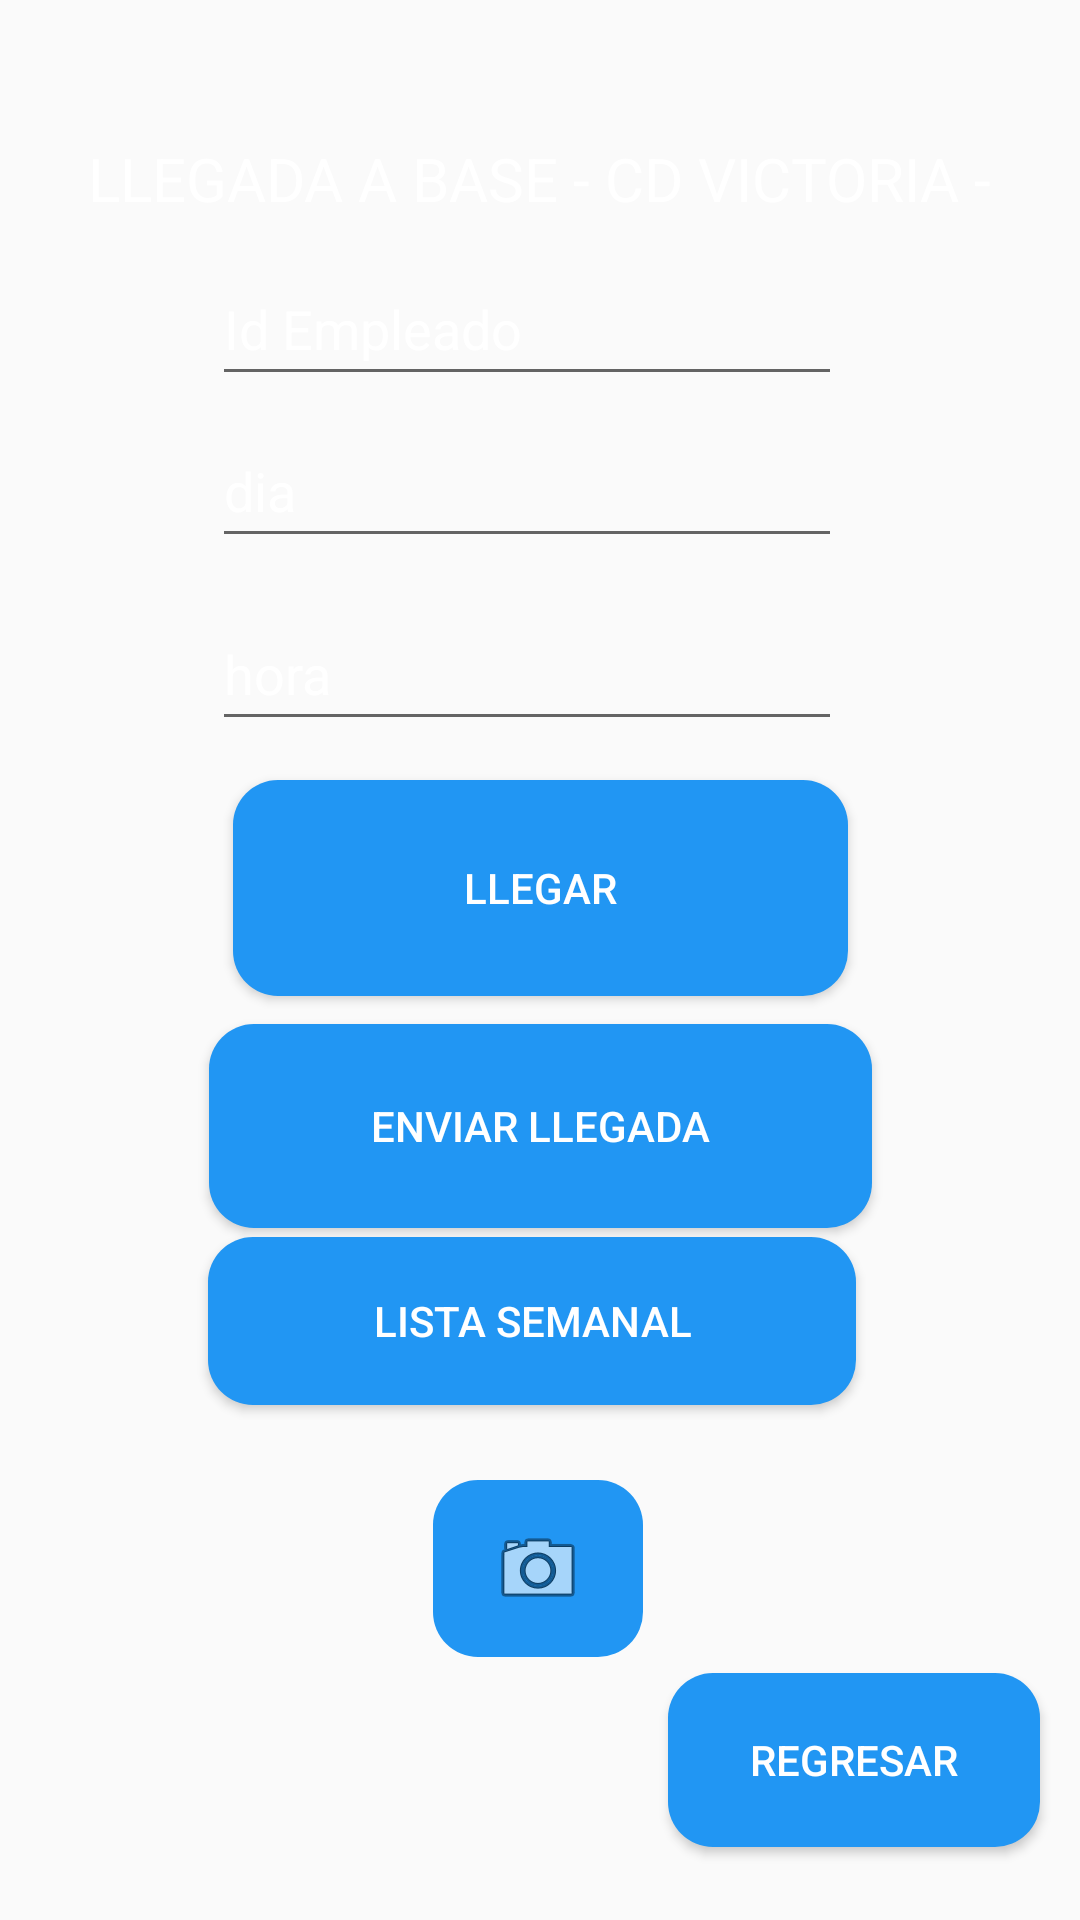

Icons on this 1080px x 1920px Android screen, each with its box as [left=x1, top=y1, right=x2, bottom=y2]:
camera: [left=433, top=1480, right=643, bottom=1657]
